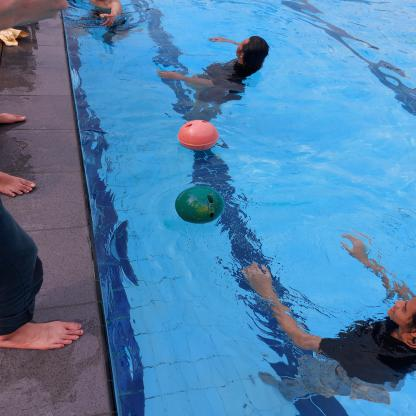green_buoy: (173, 184, 227, 225)
red_buoy: (176, 118, 223, 152)
